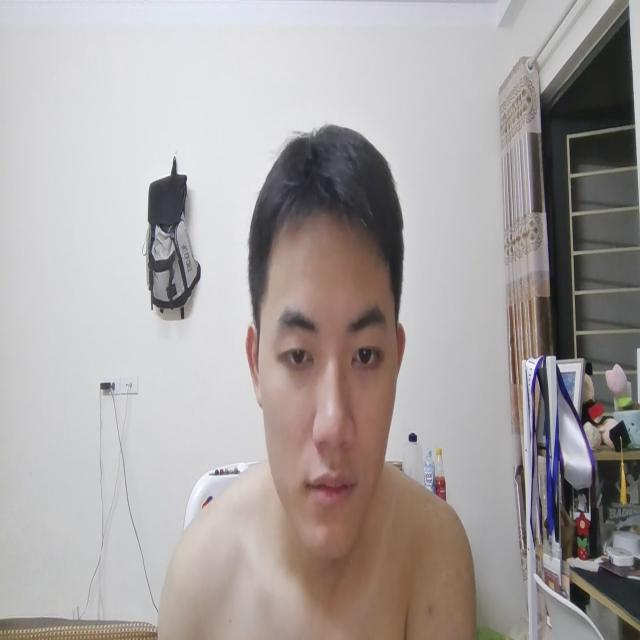student: (162, 113, 476, 640)
